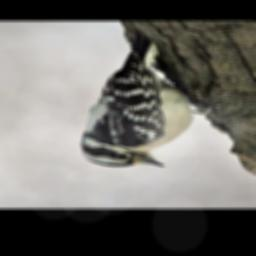Woodpecker: (77, 26, 232, 170)
